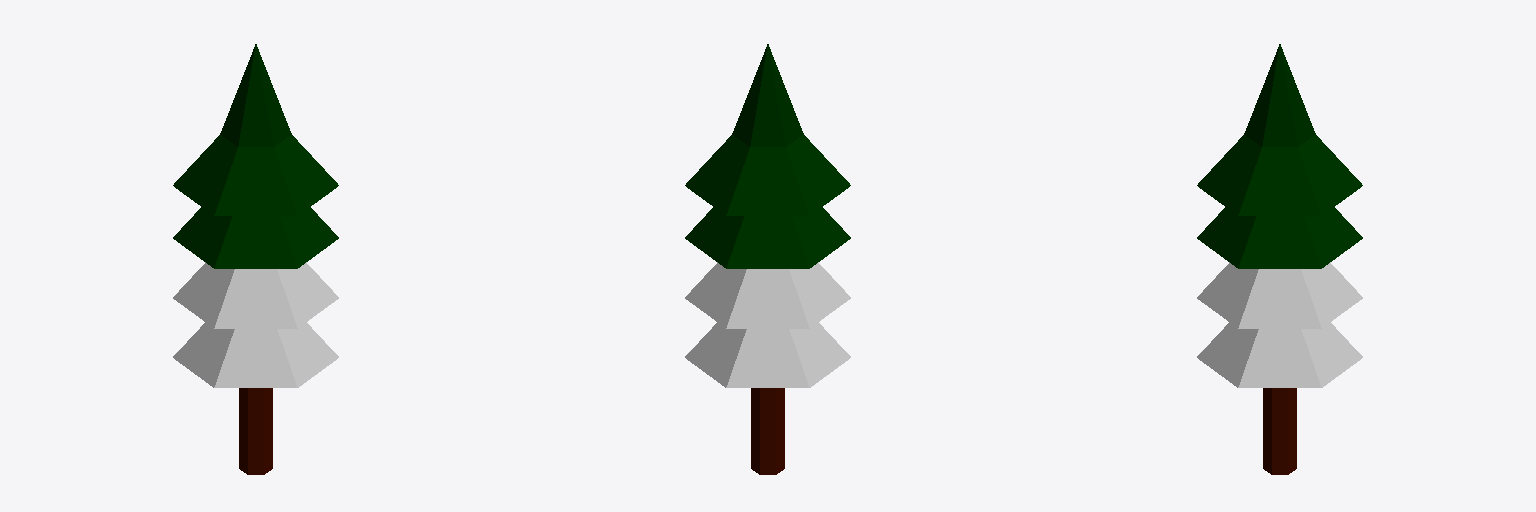
Rendered from tree3.obj.
3 views of the same model, side by side, from view 1: azimuth 30°, elevation 25°; view 2: azimuth 150°, elevation 25°; view 3: azimuth 270°, elevation 25° (orthographic).
Parts seen in each view (by area): view 1: Cone, Cone.002, Cone.003, Cone.001, Cylinder; view 2: Cone, Cone.002, Cone.003, Cone.001, Cylinder; view 3: Cone, Cone.002, Cone.003, Cone.001, Cylinder.
Part boxes in pixels (x1,y1,x2,y2): Cone: (173,44,338,215); Cone.002: (173,262,338,328); Cone.003: (173,322,338,387); Cone.001: (173,207,338,268); Cylinder: (239,388,272,474); Cone: (685,44,850,215); Cone.002: (685,262,850,328); Cone.003: (685,322,850,387); Cone.001: (685,207,850,268); Cylinder: (751,388,784,474); Cone: (1197,44,1362,215); Cone.002: (1197,262,1362,328); Cone.003: (1197,322,1362,387); Cone.001: (1197,207,1362,268); Cylinder: (1263,388,1296,474).
Bounding box in the file's own units: 8.64 × 28.04 × 9.98.